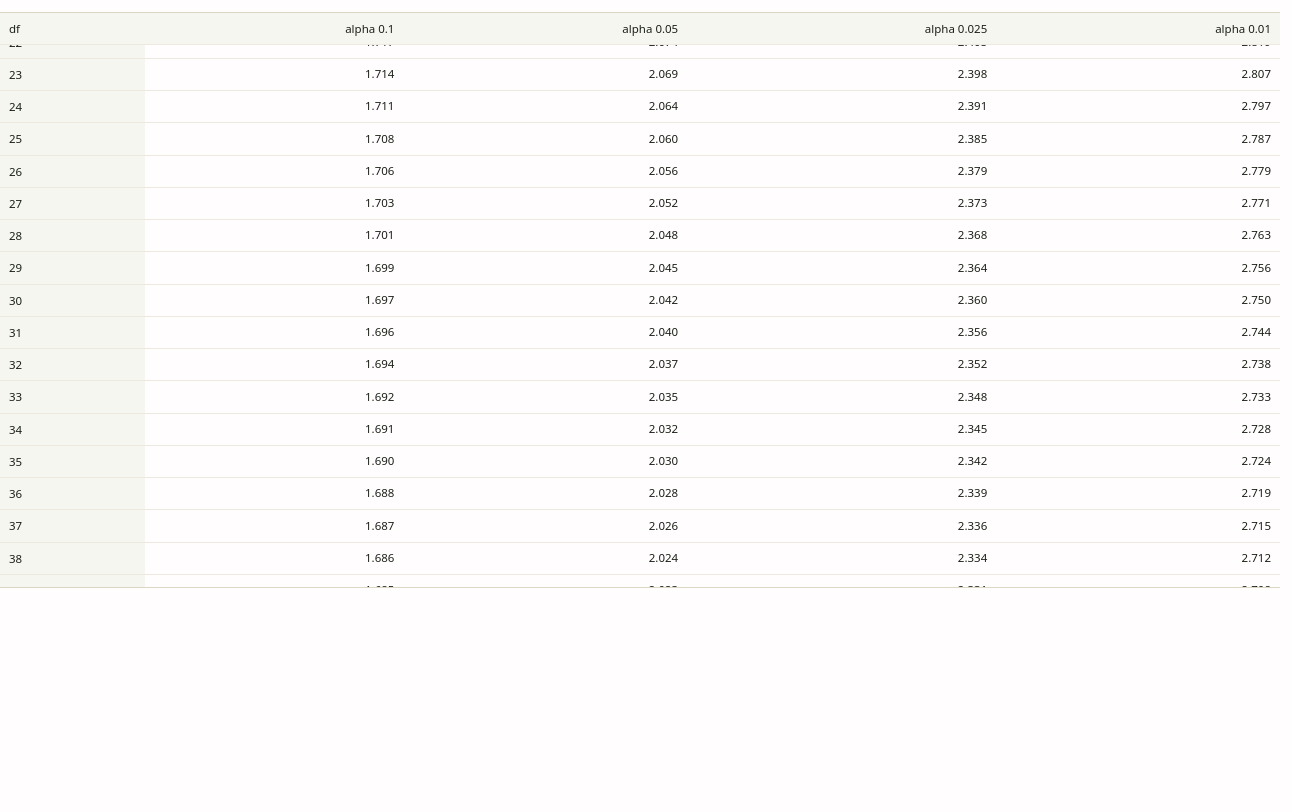
Test: pivot menyorot nilai, baris, kolom, dan header
Later steps or results of the test are not shown.
(page scrolled)
Hover over the button "2.042" at (664, 299), box left=404, top=287, right=687, bottom=314
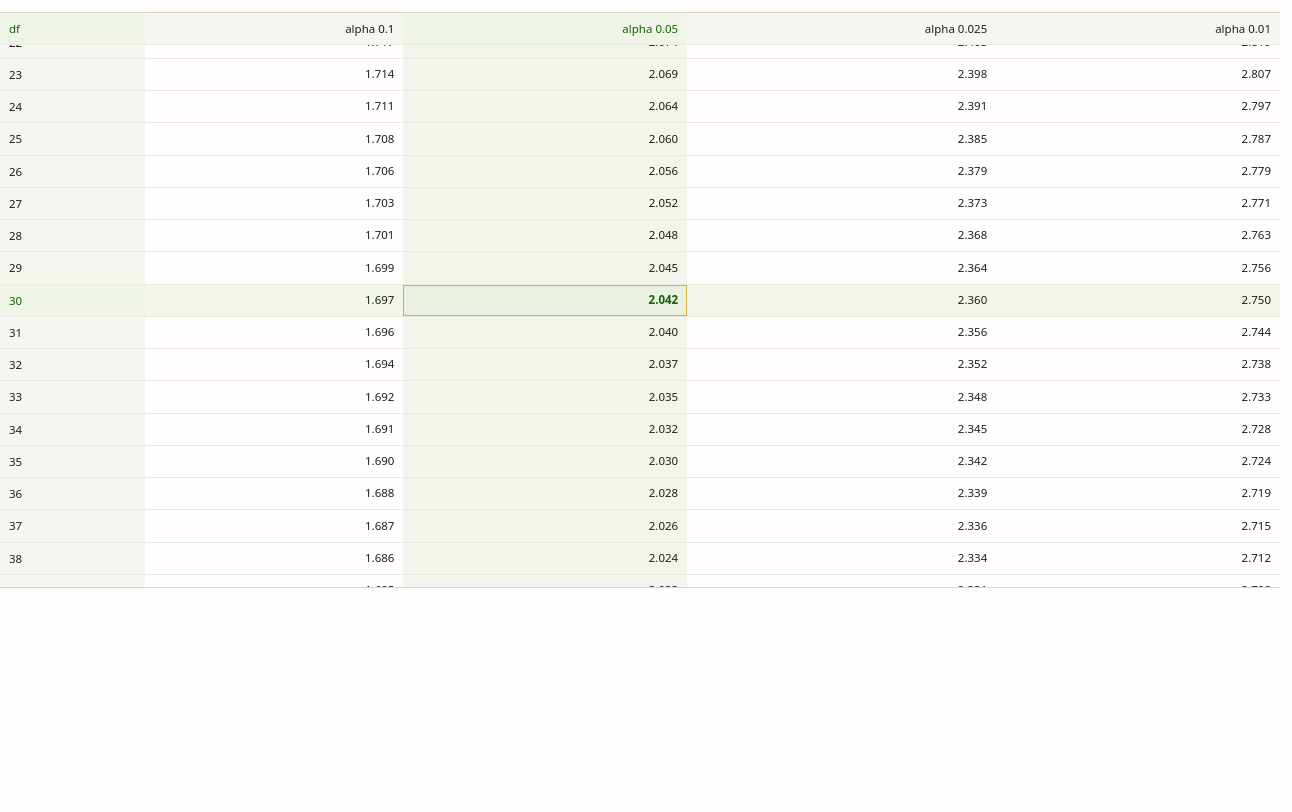
Expected: the cell "1.697" is shown, left=145, top=284, right=404, bottom=317
Now the cell "2.042" has class "pivot-cell", box left=404, top=284, right=687, bottom=317
